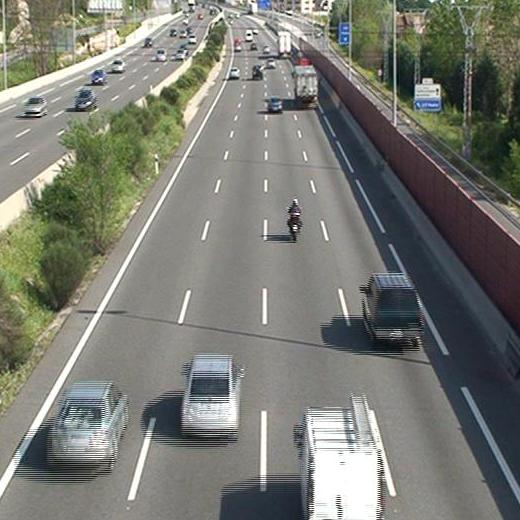car: (46, 383, 128, 461), (179, 356, 242, 436), (361, 275, 423, 342), (267, 96, 282, 111), (229, 67, 241, 79), (253, 65, 262, 79), (265, 58, 276, 69)
motorcycle: (287, 199, 302, 240)
truck: (293, 66, 319, 108), (277, 31, 292, 57)
van: (296, 408, 383, 520)
